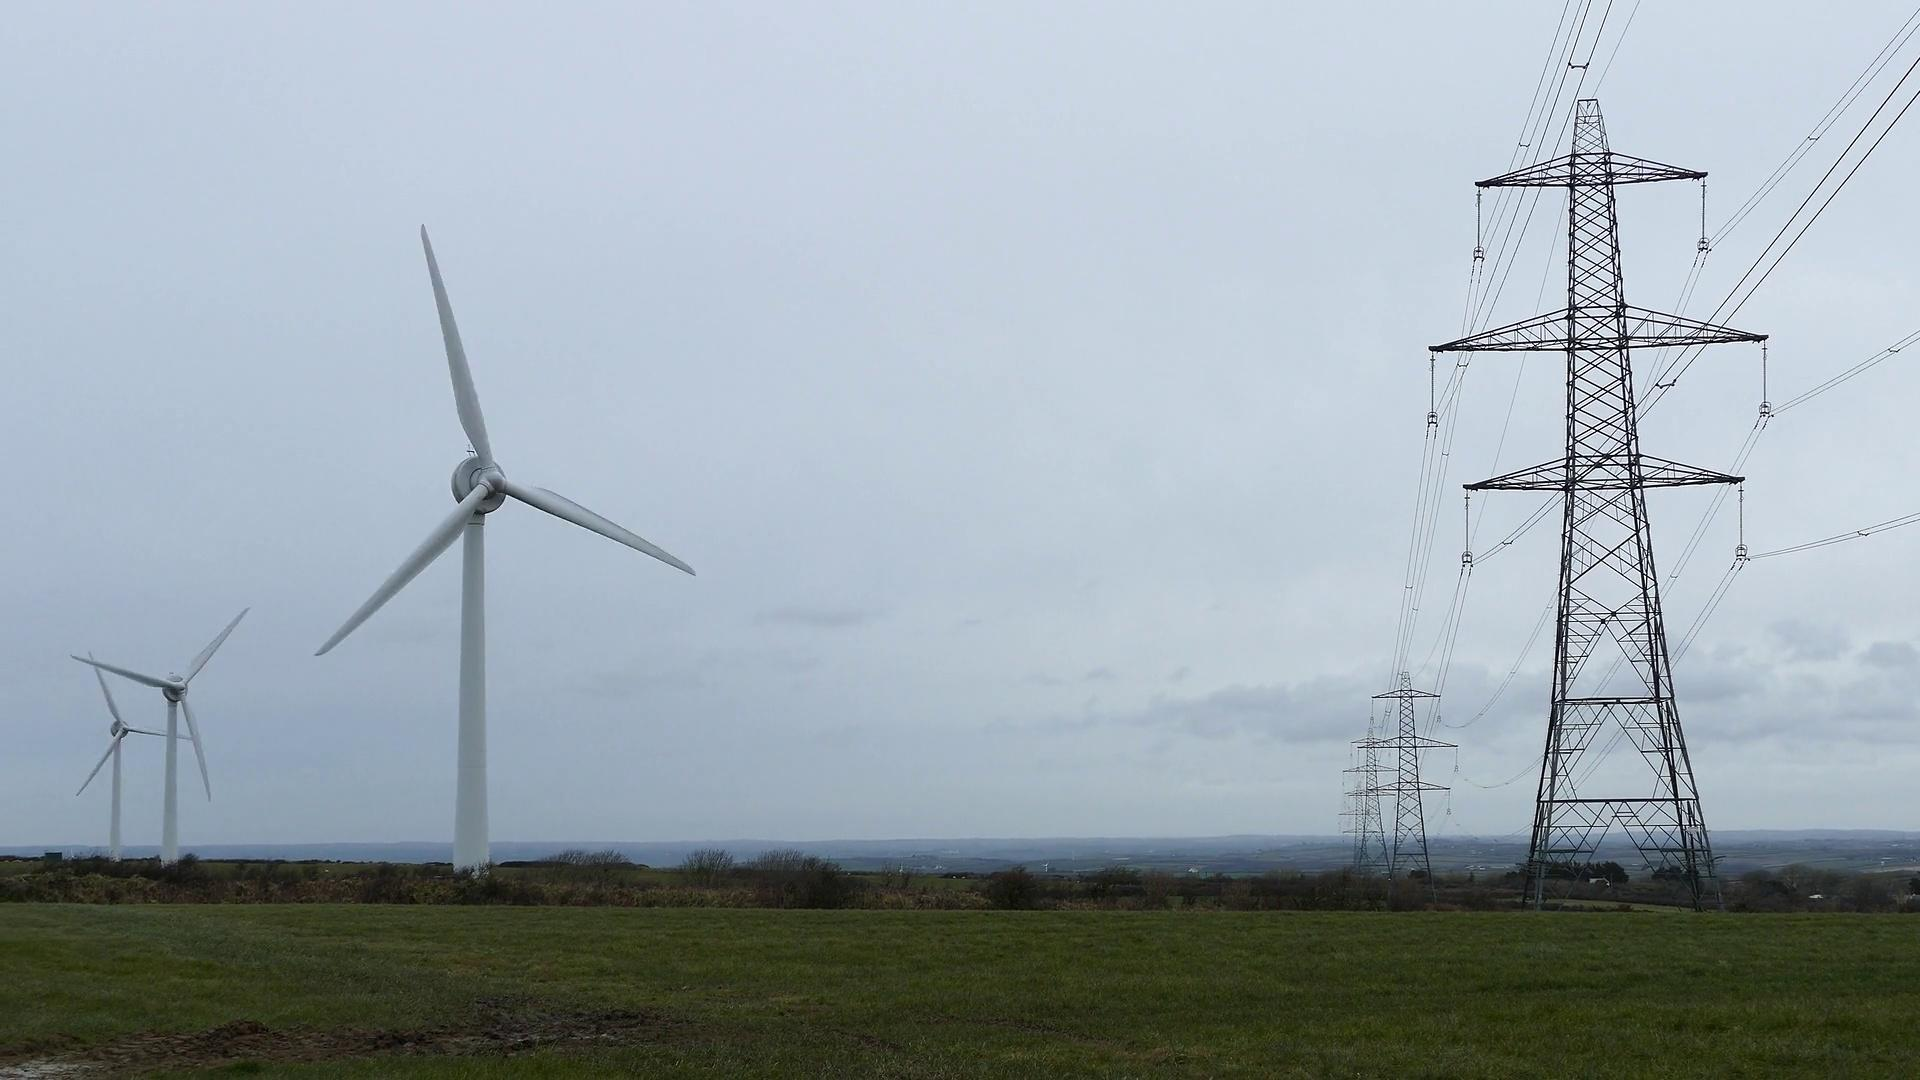cable tower: (1420, 96, 1766, 923), (1364, 669, 1460, 905), (1346, 719, 1403, 887), (1338, 789, 1378, 881)
turbine: (218, 175, 740, 949), (63, 579, 293, 918), (37, 633, 193, 887)
